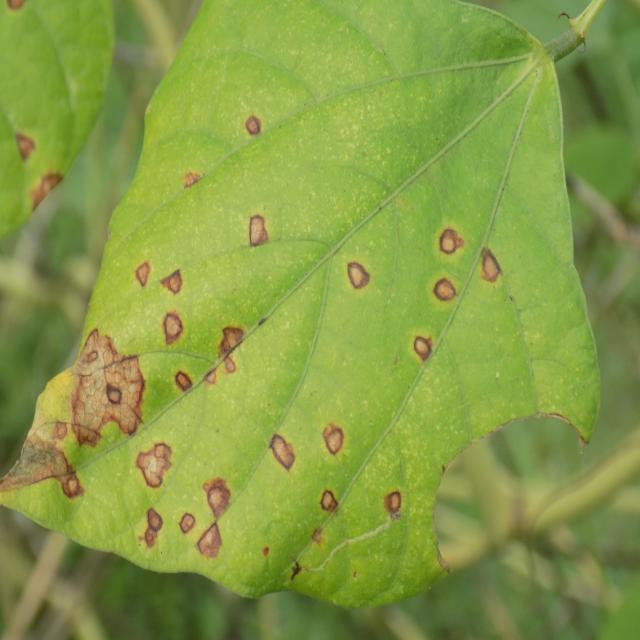Dolicos bean_cercospora leaf spot: (0, 0, 602, 602)
